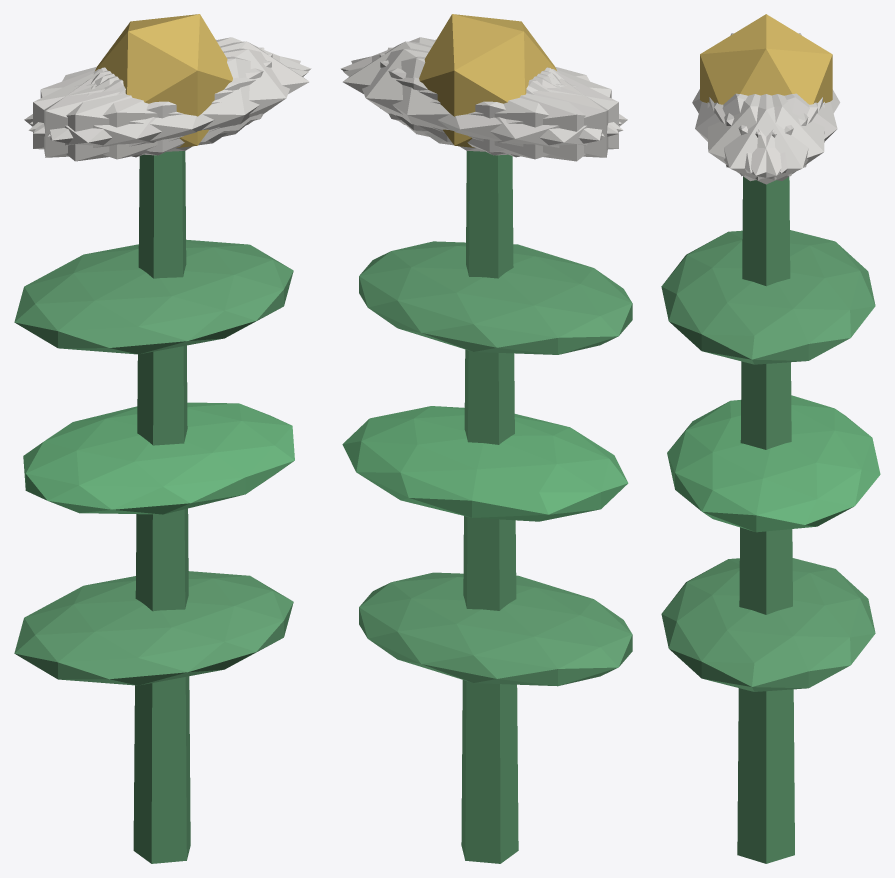
The model's file is graptophyllum-pictum.glb.
3 views of the same model, side by side, from view 1: azimuth 30°, elevation 25°; view 2: azimuth 150°, elevation 25°; view 3: azimuth 270°, elevation 25° (orthographic).
Parts seen in each view (by area): view 1: stem, leaf2, leaf0, leaf1, center, petal1, petal6, petal2, petal5, petal7, petal0, petal4 (+2 smaller); view 2: stem, leaf1, leaf2, leaf0, center, petal8, petal3, petal7, petal4, petal2, petal0, petal5 (+2 smaller); view 3: stem, leaf2, leaf1, leaf0, center, petal0, petal4, petal5, petal8, petal1.
Boxes of the visible parts, x1,y1,x2,y2 form: stem: (133, 151, 190, 863); leaf2: (14, 239, 293, 354); leaf0: (14, 571, 293, 685); leaf1: (23, 402, 294, 514); center: (95, 14, 232, 147); petal1: (28, 56, 308, 159); petal6: (24, 69, 227, 161); petal2: (44, 47, 264, 157); petal5: (47, 48, 300, 152); petal7: (33, 53, 272, 155); petal0: (94, 41, 309, 142); petal4: (30, 37, 311, 133); stem: (461, 151, 518, 863); leaf1: (342, 406, 628, 521); leaf2: (359, 241, 632, 354); leaf0: (359, 572, 632, 686); center: (419, 14, 556, 147); petal8: (343, 56, 623, 159); petal3: (425, 69, 627, 161); petal7: (387, 47, 608, 157); petal4: (351, 48, 604, 152); petal2: (379, 53, 618, 155); petal0: (343, 41, 557, 142); petal5: (341, 37, 621, 133); stem: (737, 176, 794, 863); leaf2: (661, 230, 875, 364); leaf1: (667, 395, 880, 532); leaf0: (661, 558, 875, 691); center: (700, 14, 832, 104); petal0: (709, 94, 822, 184); petal4: (714, 94, 824, 180); petal5: (707, 94, 817, 181); petal8: (724, 93, 837, 173); petal1: (695, 93, 808, 173).
Bounding box in the file's own units: 0.1488 × 0.4174 × 0.1011.
